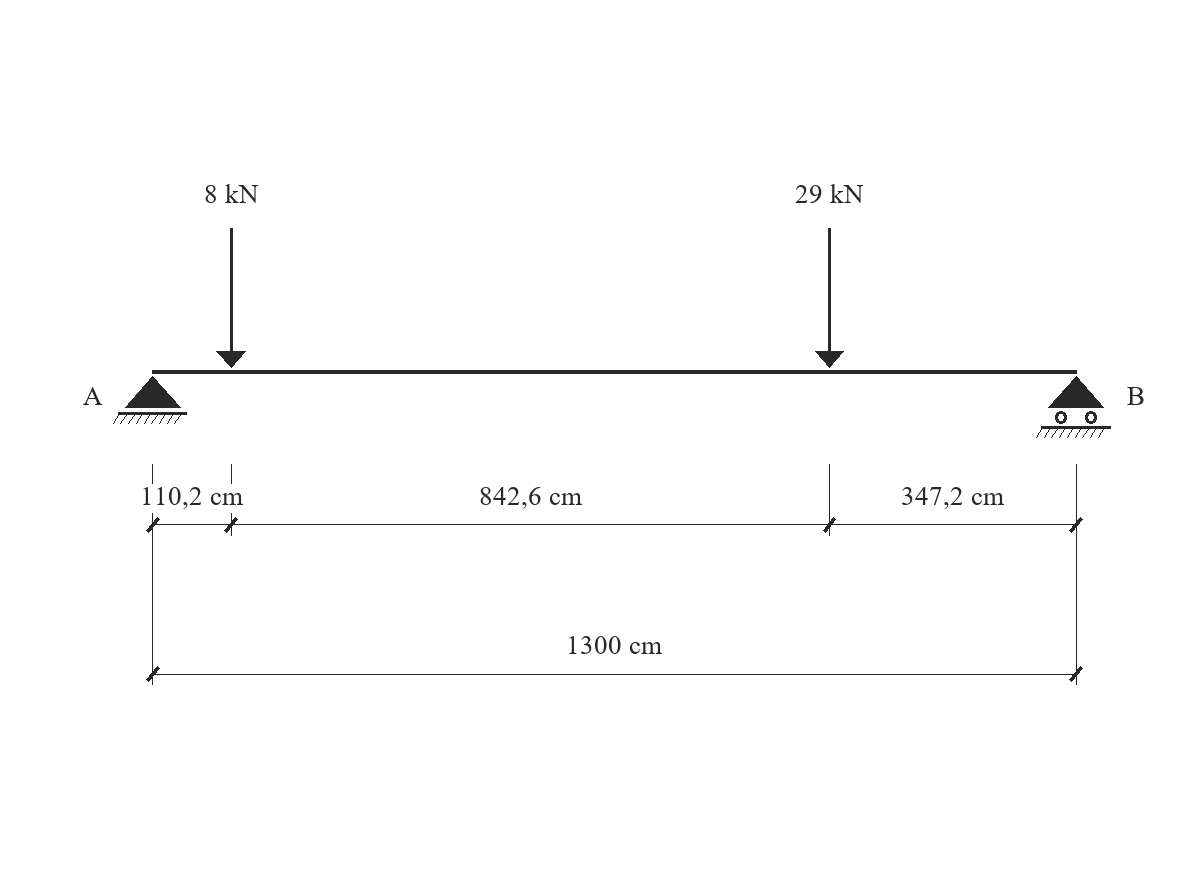pin_support: (113, 376, 187, 424)
point_load: (216, 228, 246, 368), (815, 228, 844, 368)
roller_support: (1036, 376, 1111, 438)
